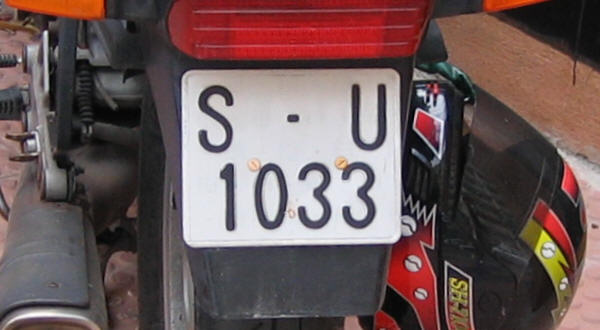license_plate: (183, 67, 402, 245)
